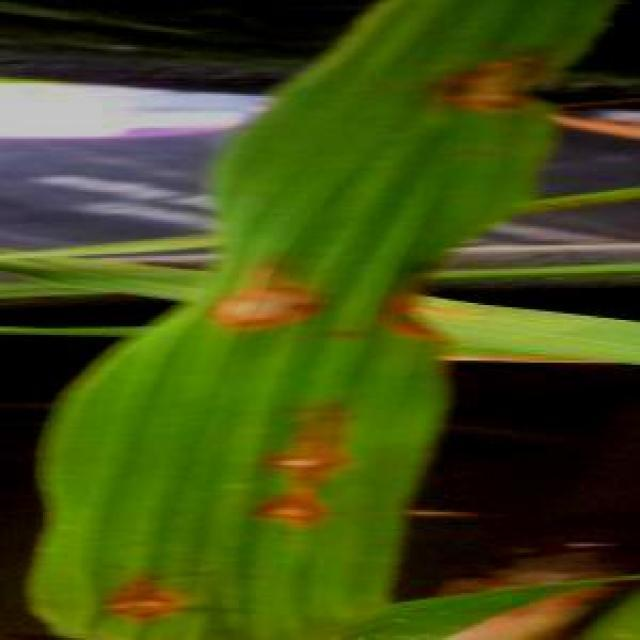Rice_Blast: (416, 30, 566, 145), (200, 230, 322, 352), (247, 376, 352, 482), (92, 550, 195, 638), (235, 484, 348, 557)
